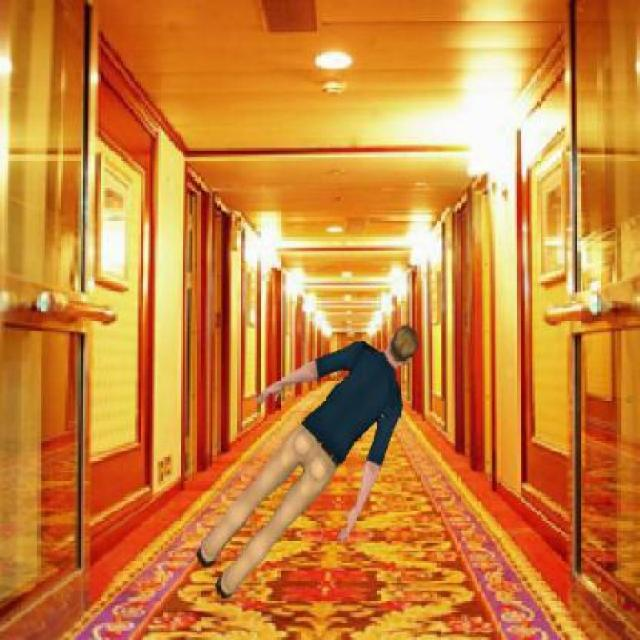Person: (196, 318, 427, 599)
